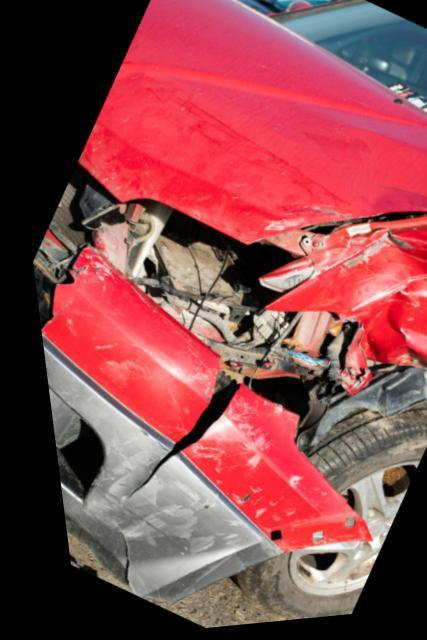crack: (112, 361, 230, 501), (102, 529, 115, 587)
dent: (126, 92, 427, 225), (303, 241, 427, 367)
scratch: (75, 447, 194, 557), (81, 347, 198, 401), (184, 401, 264, 467)
